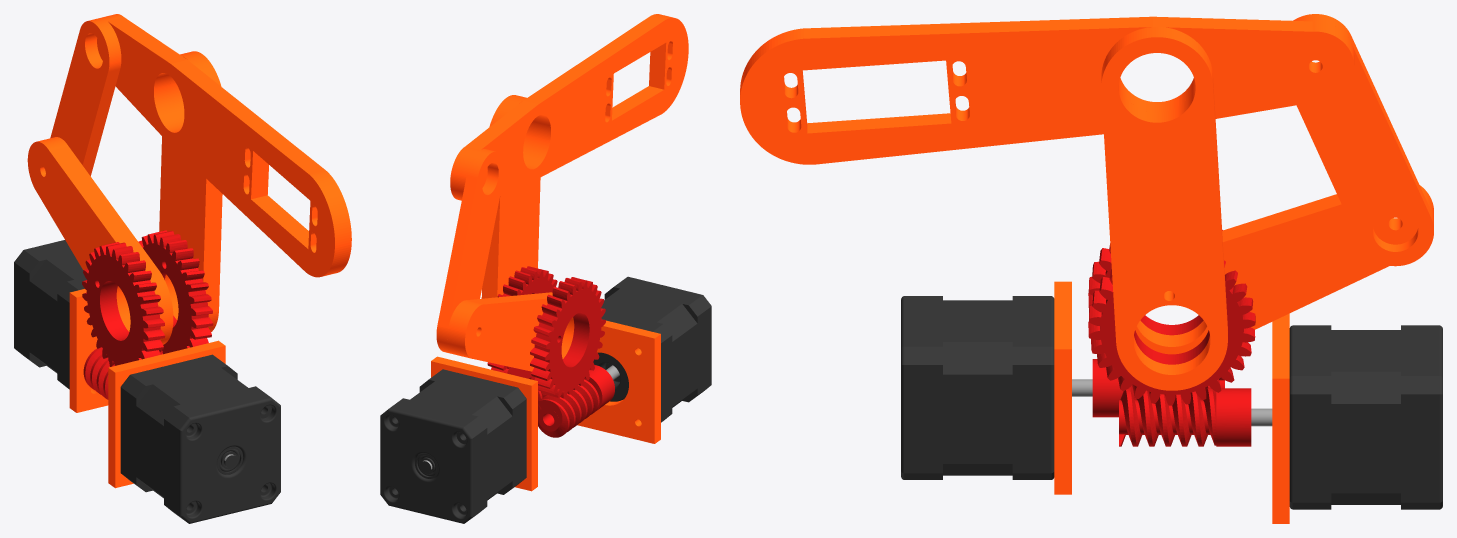
The model's file is Concept3.glb.
3 views of the same model, side by side, from view 1: azimuth 30°, elevation 25°; view 2: azimuth 150°, elevation 25°; view 3: azimuth 270°, elevation 25° (orthographic). The views are drawn at different scales.
Visible parts, largest first — view 1: Node2, Node4, Node1, Node3; view 2: Node2, Node4, Node1, Node3; view 3: Node2, Node4, Node1, Node3, Node5.
Part boxes in pixels (x1,y1,x2,y2): Node2: (27,14,351,344); Node4: (14,240,280,523); Node1: (82,230,213,399); Node3: (69,289,225,488); Node2: (436,14,688,371); Node4: (380,276,711,523); Node1: (487,266,614,437); Node3: (431,320,660,491); Node2: (740,14,1433,390); Node4: (901,296,1442,509); Node1: (1088,229,1255,446); Node3: (1054,281,1289,523); Node5: (1072,379,1272,426).
Bounding box in the file's own units: 66 × 148 × 202.
